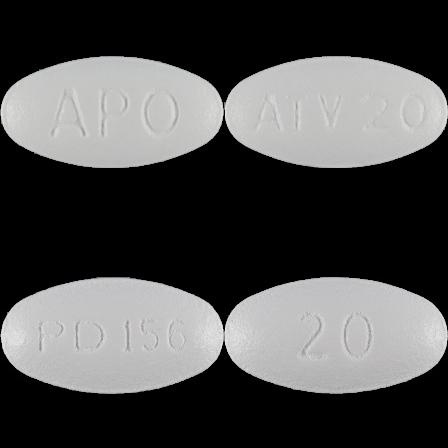68645-481: (0, 0, 224, 224)
